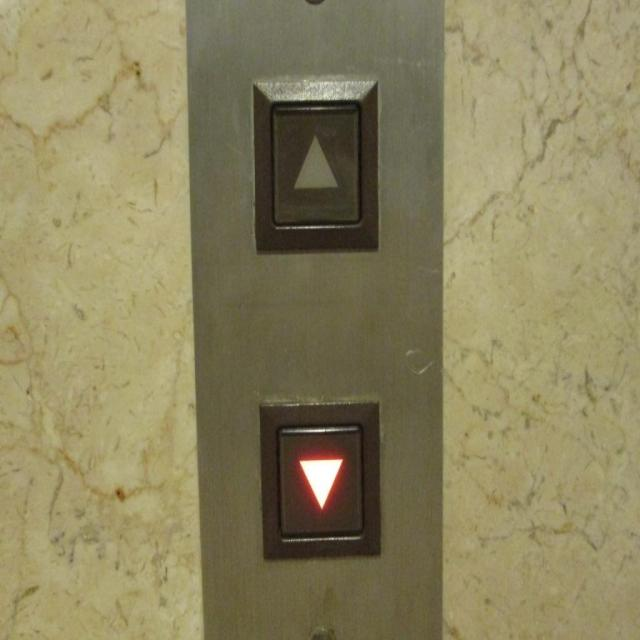down: (256, 398, 384, 564)
up: (248, 74, 381, 255)
